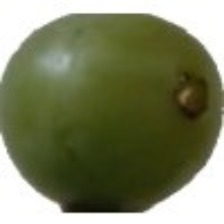grapes: (51, 48, 196, 214)
